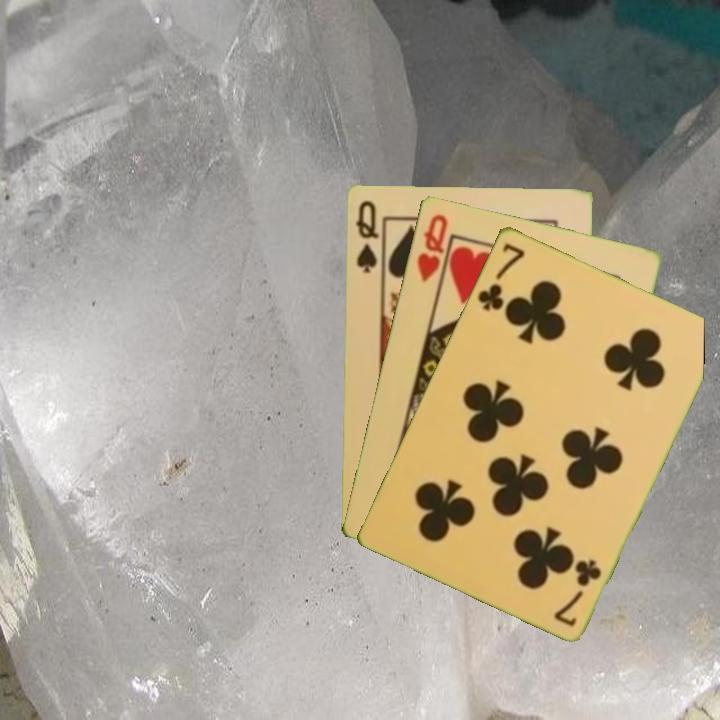7c: (473, 239, 528, 313), (550, 555, 605, 629)
Qh: (413, 210, 451, 285)
Qs: (352, 196, 382, 275)
